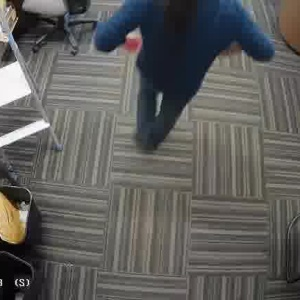person: (125, 0, 246, 154)
